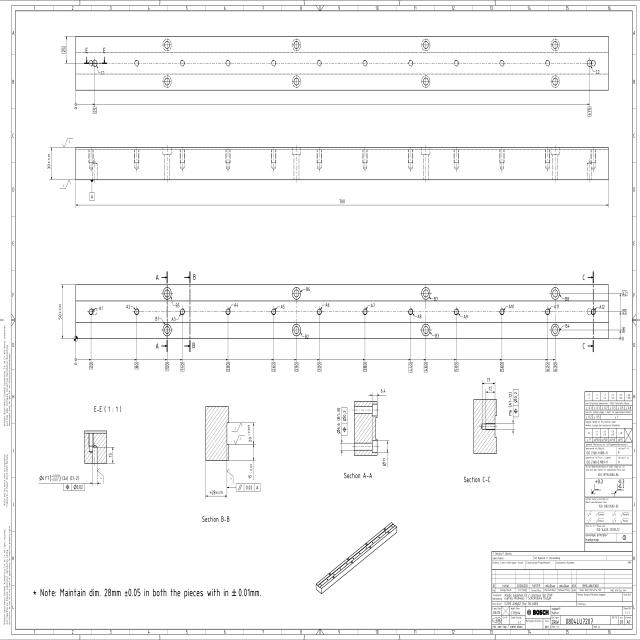dimension: (55, 283, 67, 340), (39, 474, 80, 484), (47, 146, 57, 182), (57, 36, 69, 65), (381, 440, 391, 470), (205, 489, 228, 500), (367, 388, 387, 399), (246, 457, 255, 481), (246, 423, 256, 444), (481, 376, 496, 386), (507, 391, 513, 416), (108, 446, 116, 464), (336, 406, 341, 434), (337, 196, 350, 206), (484, 385, 496, 394), (179, 358, 186, 373), (225, 358, 232, 373), (271, 358, 278, 373), (316, 358, 323, 373), (293, 358, 300, 372), (422, 359, 429, 373), (498, 359, 505, 373), (586, 102, 592, 118), (88, 358, 95, 371), (164, 358, 170, 373), (362, 358, 368, 373), (90, 104, 98, 115), (408, 359, 414, 373), (454, 359, 460, 373), (545, 359, 551, 373), (553, 359, 559, 373), (134, 358, 140, 371), (620, 290, 628, 299), (620, 308, 628, 316), (621, 326, 625, 334)
